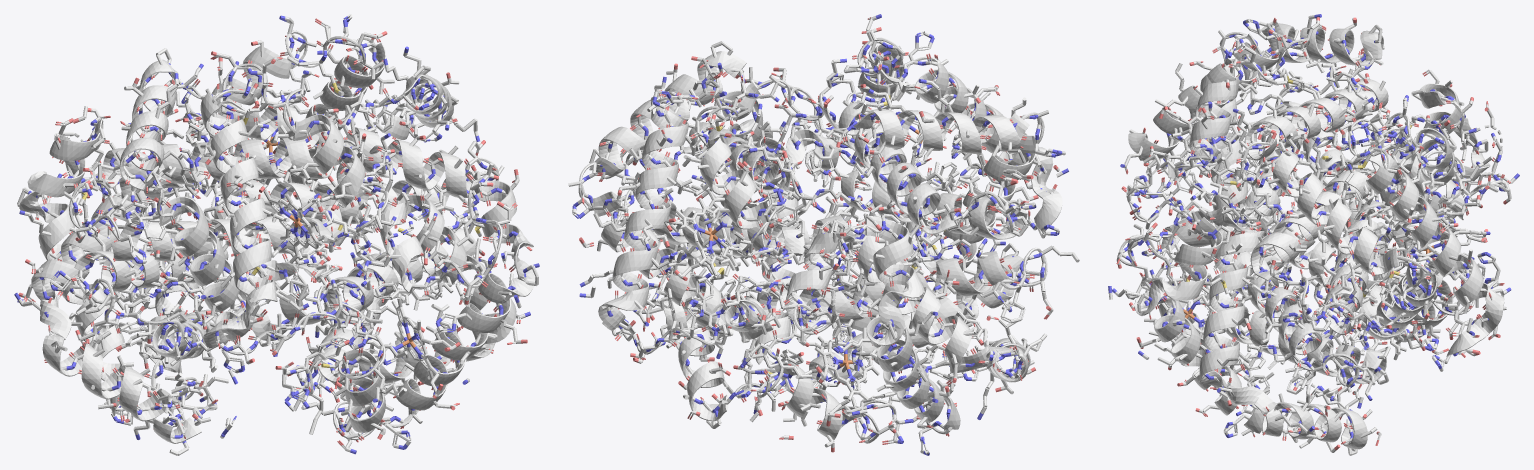
File: 4hhb__cartoon-sticks__default.glb
3 views of the same model, side by side, from view 1: azimuth 30°, elevation 25°; view 2: azimuth 150°, elevation 25°; view 3: azimuth 270°, elevation 25° (orthographic). The views are drawn at different scales.
Parts seen in each view (by area): view 1: Renderer Node; view 2: Renderer Node; view 3: Renderer Node.
Part boxes in pixels (bbox=[...]): Renderer Node: bbox=[14, 14, 539, 455]; Renderer Node: bbox=[568, 14, 1079, 455]; Renderer Node: bbox=[1108, 14, 1519, 455].
Bounding box in the file's own units: 65.72 × 57.28 × 57.7.
